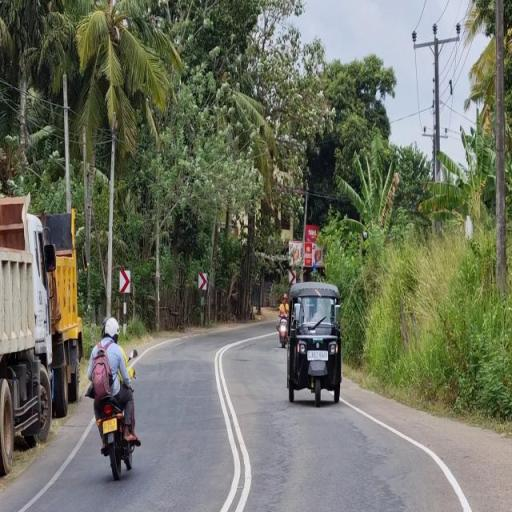double_white_line: (212, 337, 255, 512)
